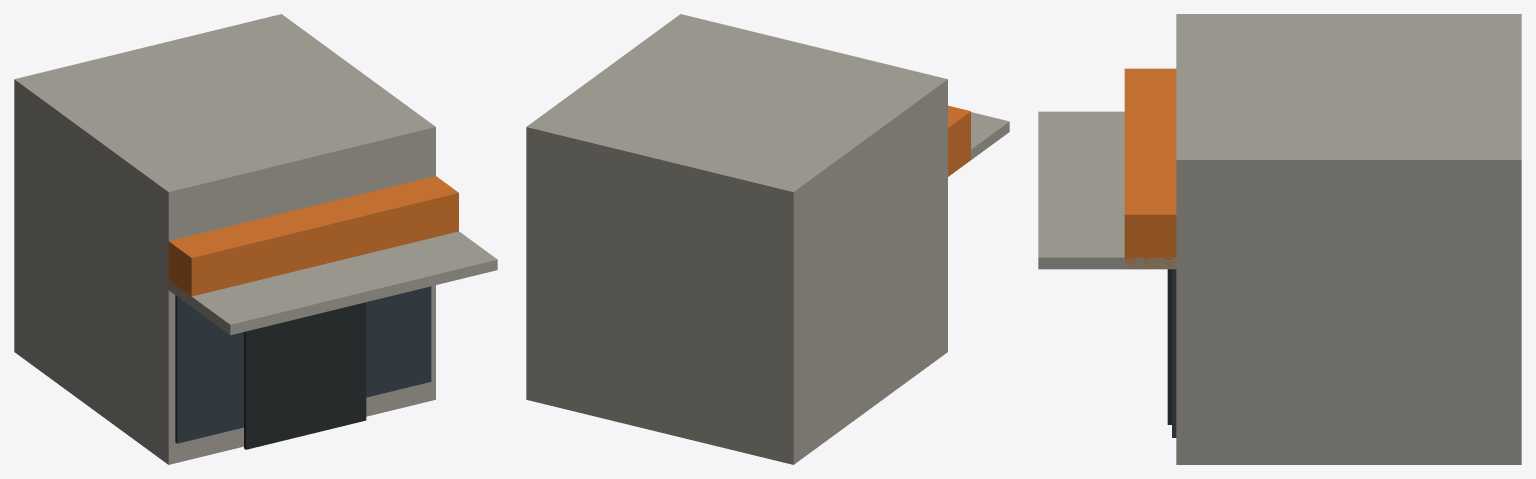
The model's file is open-door.glb.
3 views of the same model, side by side, from view 1: azimuth 30°, elevation 25°; view 2: azimuth 150°, elevation 25°; view 3: azimuth 270°, elevation 25° (orthographic). The views are drawn at different scales.
Parts seen in each view (by area): view 1: open-door; view 2: open-door; view 3: open-door.
Part boxes in pixels (x1,y1,x2,y2): open-door: (14, 14, 497, 464); open-door: (526, 14, 1009, 464); open-door: (1038, 14, 1521, 464).
Size of the model in its own units: 4 by 3.9 by 5.6.
